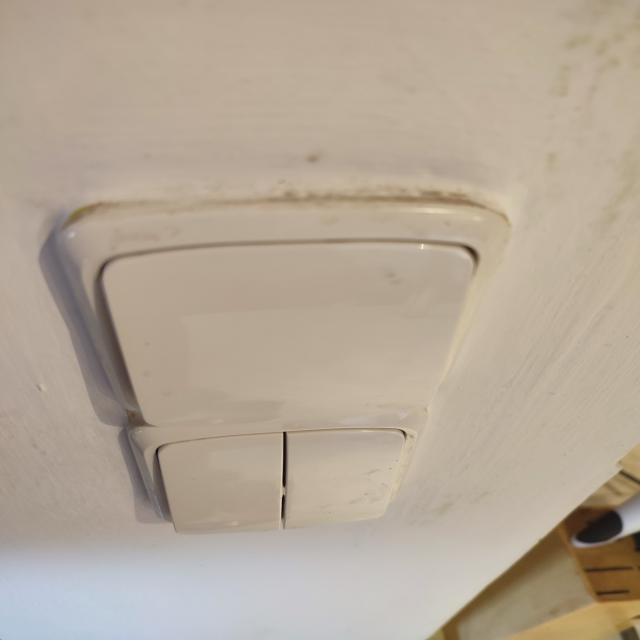house switch: (63, 206, 492, 421)
house switch double: (129, 418, 421, 534)
